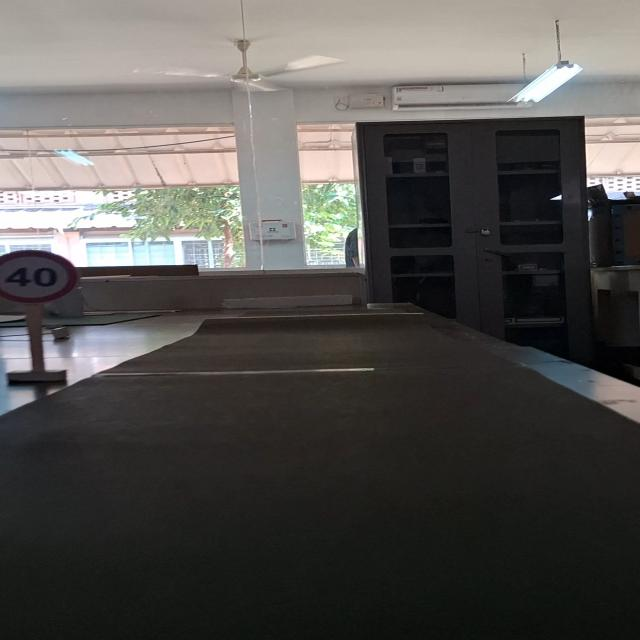Speed40: (0, 249, 81, 306)
